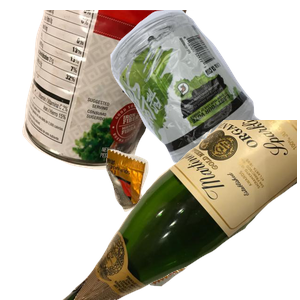glass: (60, 120, 300, 300)
metal: (20, 10, 199, 172)
plastic: (73, 10, 300, 190)
trash: (103, 147, 300, 300)
